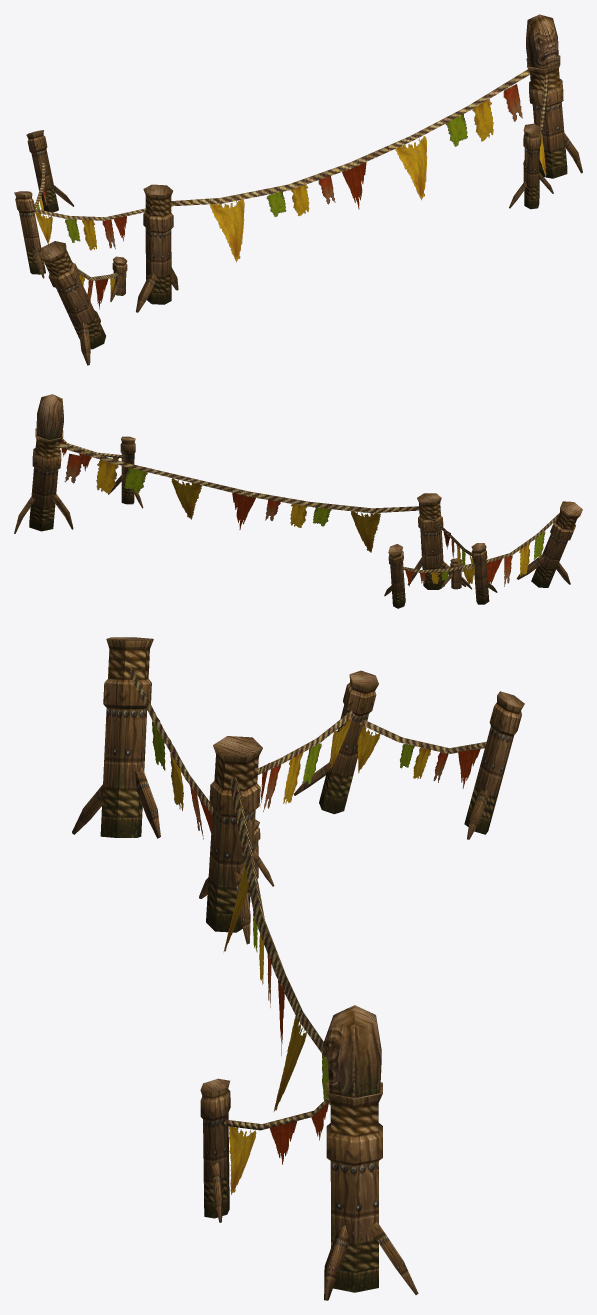
File: 7003_Item_qifushi_2.FBX
The picture shows the model from 3 angles, top to bottom: view 1: azimuth 30°, elevation 25°; view 2: azimuth 150°, elevation 25°; view 3: azimuth 270°, elevation 25°; orthographic projection. The views are drawn at different scales.
Visible parts, largest first — view 1: 7003_Item_qifushi_2; view 2: 7003_Item_qifushi_2; view 3: 7003_Item_qifushi_2.
Boxes of the visible parts, left/top/right/bottom form: 7003_Item_qifushi_2: left=14, top=14, right=582, bottom=365; 7003_Item_qifushi_2: left=14, top=394, right=582, bottom=608; 7003_Item_qifushi_2: left=72, top=637, right=524, bottom=1300.
Bounding box in the file's own units: 590 × 151 × 231.
